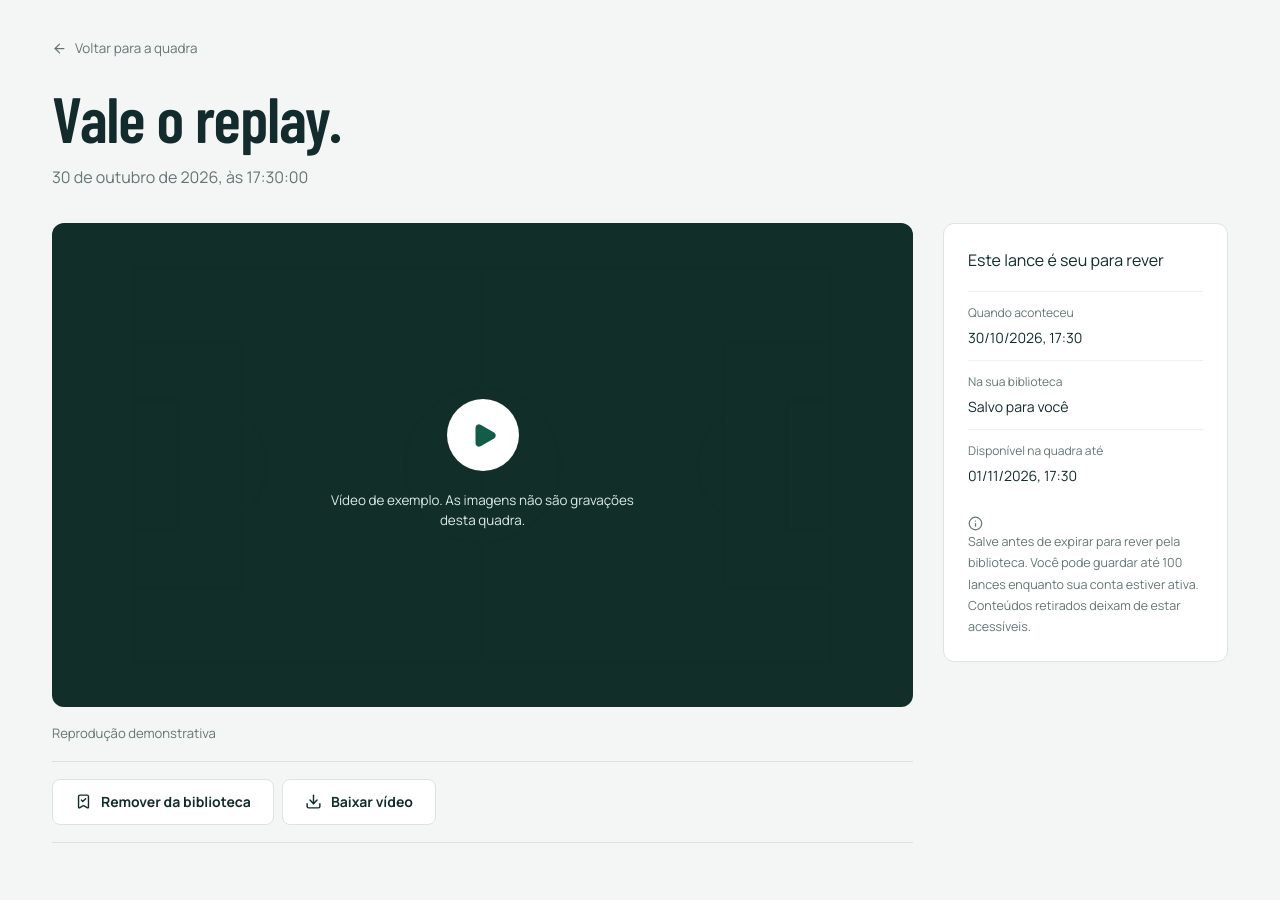
Test: Reprodução e biblioteca › retira o player quando remover o último acesso torna o lance indisponível
Step 1. Click the button "Remover da biblioteca" → [163, 802], box [52,779,274,825]
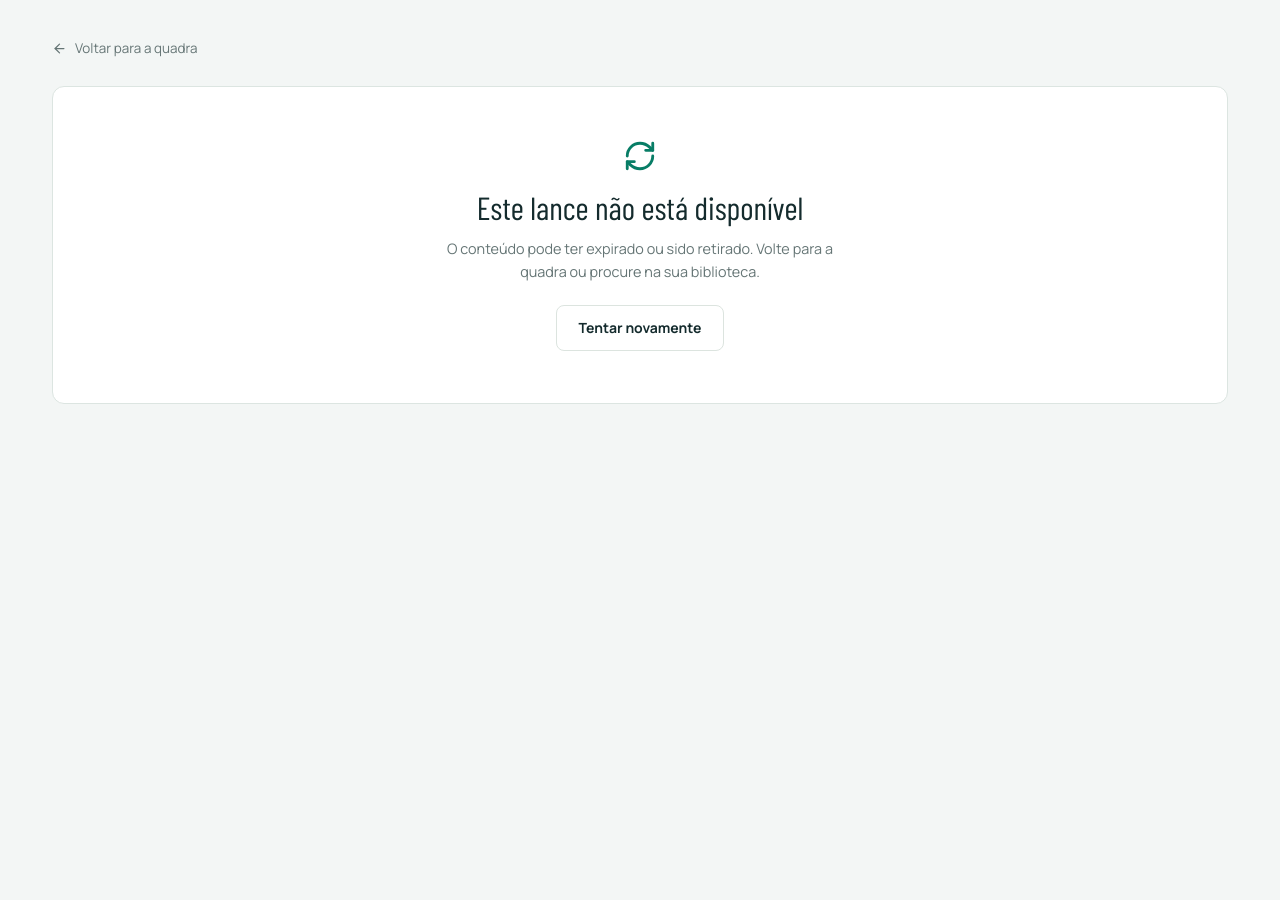
Now the heading "Este lance não está disponível" is shown, box [477,188,803,226]
